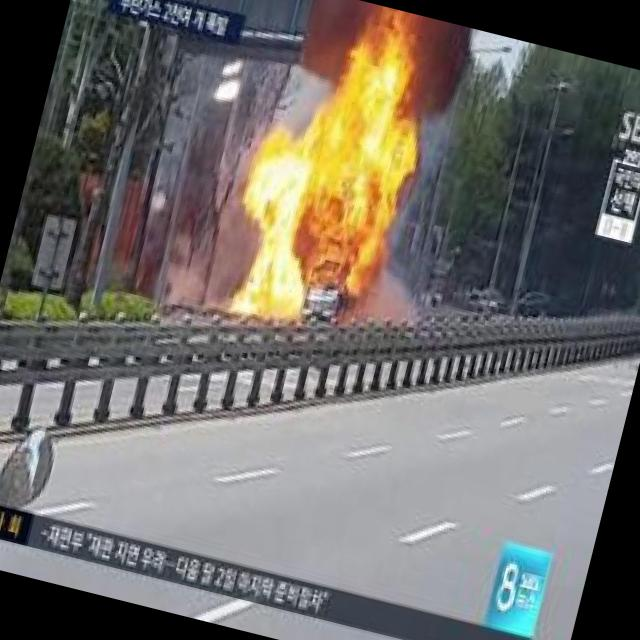Fire: (220, 108, 412, 341), (326, 22, 426, 130)
